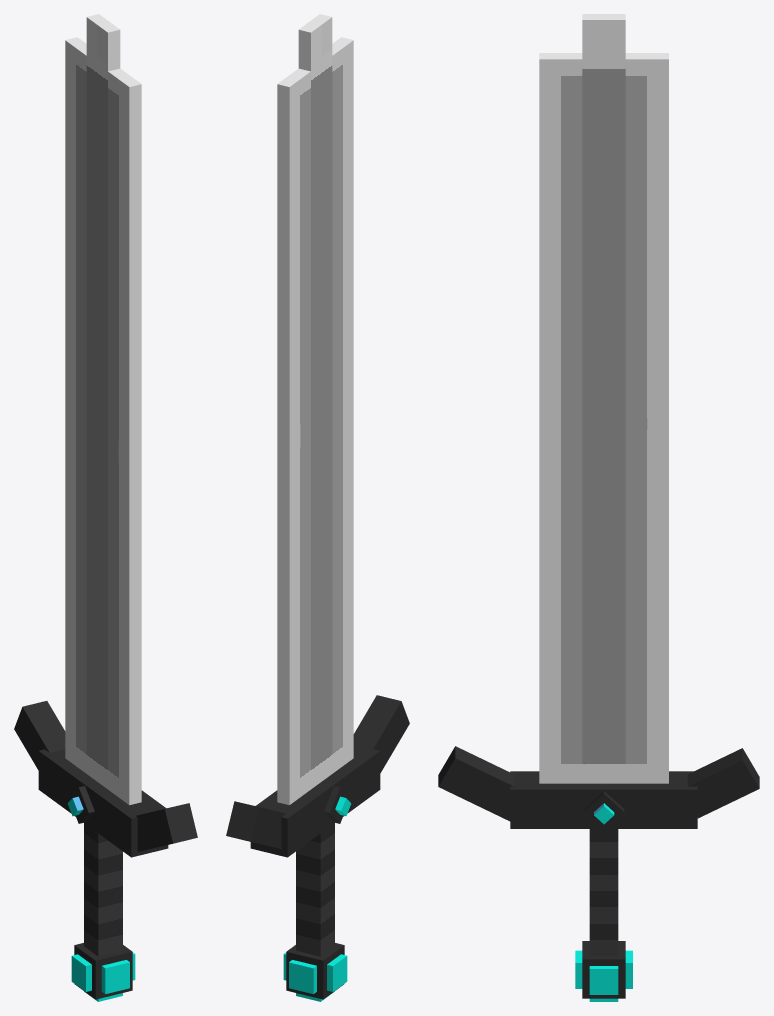
The model's file is sword.gltf.
3 views of the same model, side by side, from view 1: azimuth 30°, elevation 25°; view 2: azimuth 150°, elevation 25°; view 3: azimuth 270°, elevation 25° (orthographic).
Parts seen in each view (by area): view 1: cube (×11); view 2: cube (×11); view 3: cube (×9).
Part boxes in pixels (bbox=[...]): cube (×11): bbox=[14, 14, 197, 999]; cube (×11): bbox=[226, 14, 409, 999]; cube (×9): bbox=[438, 14, 759, 998].
Size of the model in its own units: 0.0625 by 0.9375 by 0.2787.
4 materials, 4 textured.
